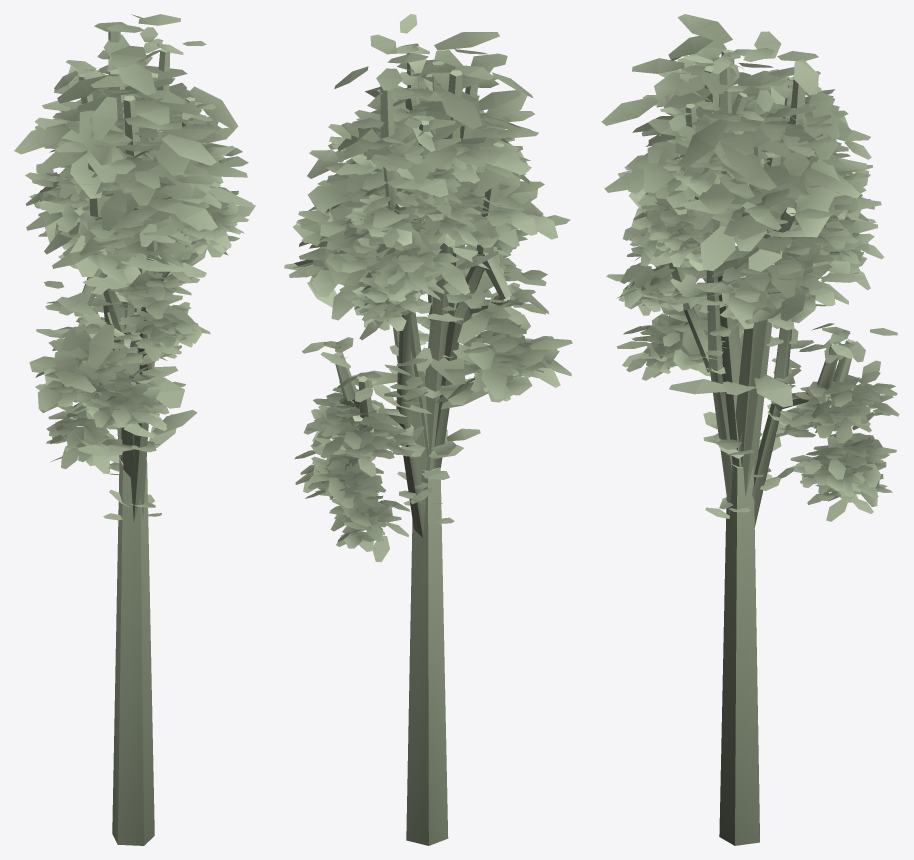
File: tree_birch.glb
The picture shows the model from 3 angles, left to right: view 1: azimuth 30°, elevation 25°; view 2: azimuth 150°, elevation 25°; view 3: azimuth 270°, elevation 25°; orthographic projection.
Visible parts, largest first — view 1: tier1_foliage, tier0_foliage, tier2_foliage, tier0_bark, tier2_bark, tier1_bark; view 2: tier1_foliage, tier2_foliage, tier0_bark, tier0_foliage, tier1_bark, tier2_bark; view 3: tier2_foliage, tier1_foliage, tier0_foliage, tier0_bark, tier2_bark, tier1_bark.
Part boxes in pixels (x1=…): tier1_foliage: x1=25, y1=14, x2=255, y2=455; tier0_foliage: x1=14, y1=45, x2=254, y2=408; tier2_foliage: x1=26, y1=27, x2=248, y2=520; tier0_bark: x1=110, y1=69, x2=158, y2=845; tier2_bark: x1=79, y1=48, x2=197, y2=521; tier1_bark: x1=82, y1=31, x2=162, y2=476; tier1_foliage: x1=284, y1=34, x2=572, y2=479; tier2_foliage: x1=294, y1=14, x2=556, y2=562; tier0_bark: x1=406, y1=61, x2=462, y2=845; tier0_foliage: x1=308, y1=32, x2=570, y2=413; tier1_bark: x1=371, y1=83, x2=511, y2=478; tier2_bark: x1=334, y1=53, x2=513, y2=537; tier2_foliage: x1=606, y1=49, x2=899, y2=521; tier1_foliage: x1=624, y1=31, x2=881, y2=458; tier0_foliage: x1=601, y1=14, x2=866, y2=407; tier0_bark: x1=704, y1=49, x2=785, y2=845; tier2_bark: x1=647, y1=66, x2=855, y2=527; tier1_bark: x1=691, y1=61, x2=818, y2=496.
Bounding box in the file's own units: 0.3278 × 1 × 0.3376.
